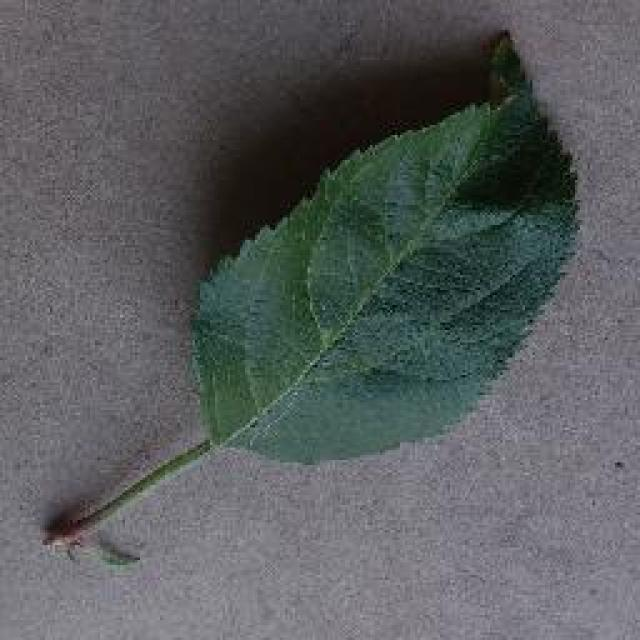apple healthy: (40, 25, 585, 567)
